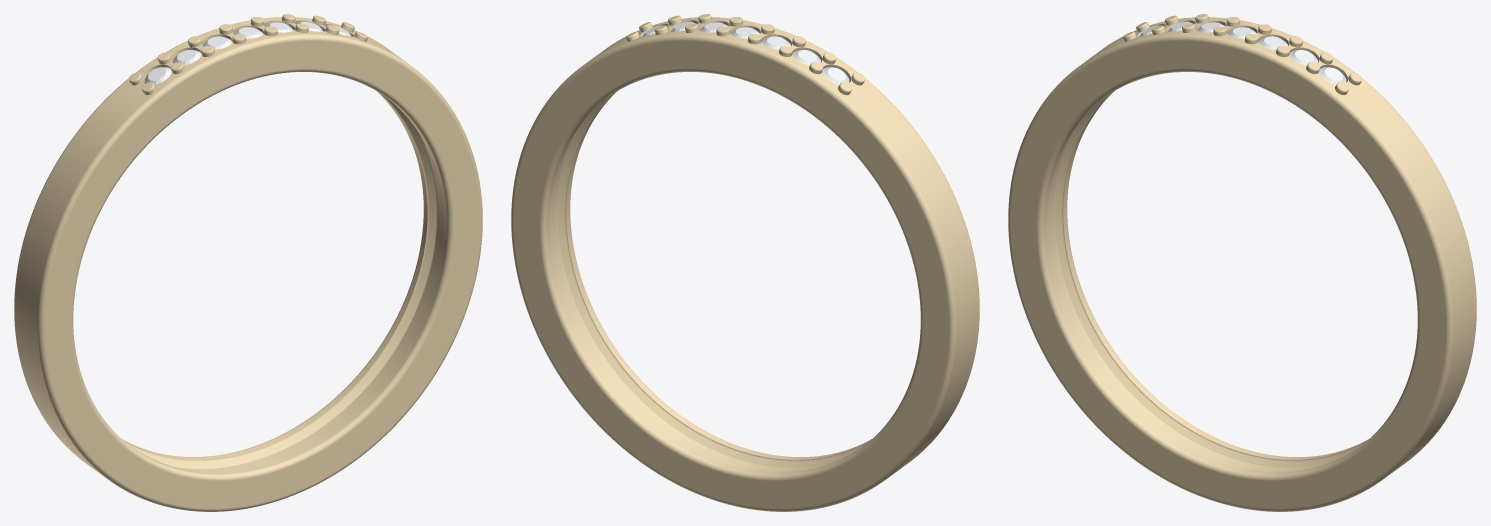
Rendered from Assembly.glb.
3 views of the same model, side by side, from view 1: azimuth 30°, elevation 25°; view 2: azimuth 150°, elevation 25°; view 3: azimuth 330°, elevation 25° (orthographic).
Parts seen in each view (by area): view 1: Metal; view 2: Metal; view 3: Metal.
Part boxes in pixels (x1=…): Metal: x1=14, y1=14, x2=482, y2=511; Metal: x1=511, y1=14, x2=979, y2=511; Metal: x1=1008, y1=14, x2=1476, y2=511.
Bounding box in the file's own units: 0.0202 × 0.0204 × 0.0022.
